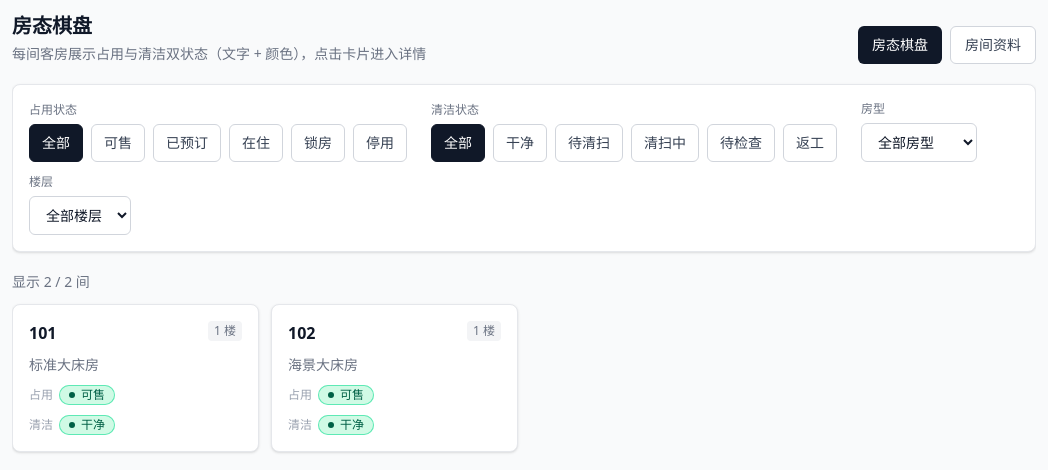
Test: RoomsManagementView（alpha.9.6 F1） › [DEF-1] 仅 room:write（FRONT_DESK）：不显示新增 / 编辑 / 停用 / 启用按钮
Step 1. Click the tab "房间资料" → (993, 45), box [950,26,1036,64]
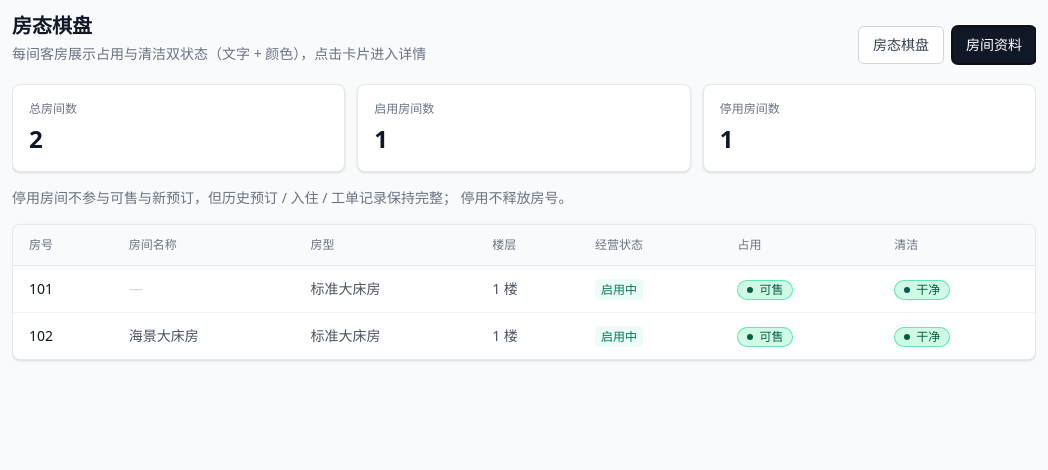
Expected: the cell "101" is shown, [13,266,113,312]
Expected: the text "总房间数" is shown, [29,100,77,117]
